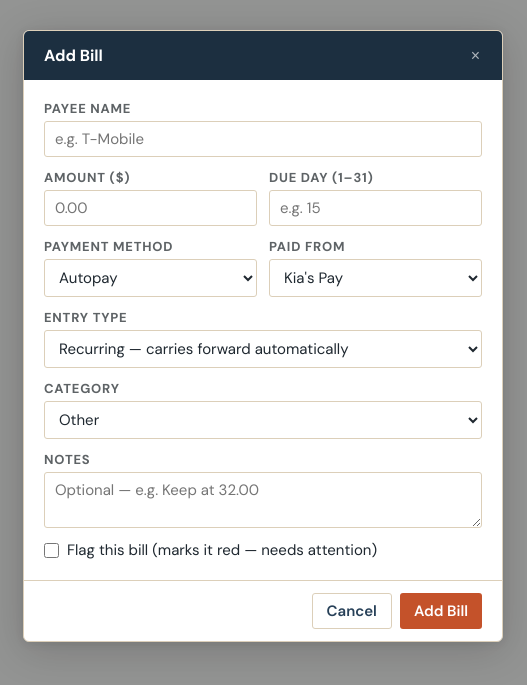
Test: BillForm › validation › shows error when due day is empty on submit
This screenshot has width=527, height=685.
Type "T-Mobile" into the field labelled "Payee Name" at (263, 139), box [44,121,482,157]
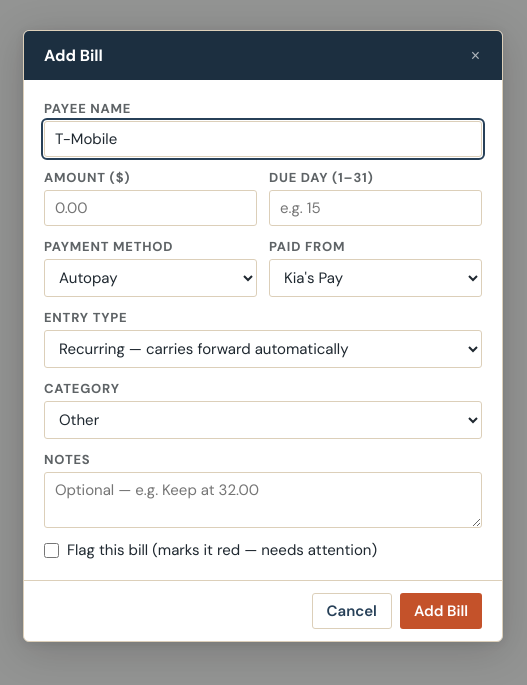
Type "50.00" into the field labelled "Amount ($)" at (150, 208), box [44,190,257,226]
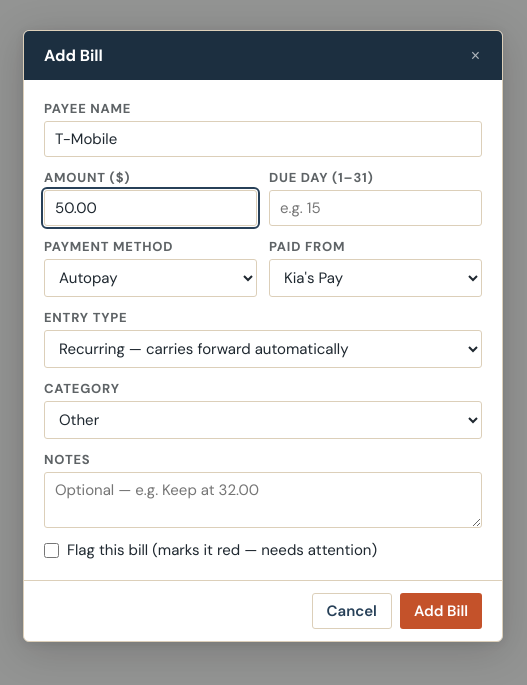
Click the button "Add Bill" at (441, 611), box [400,593,482,629]
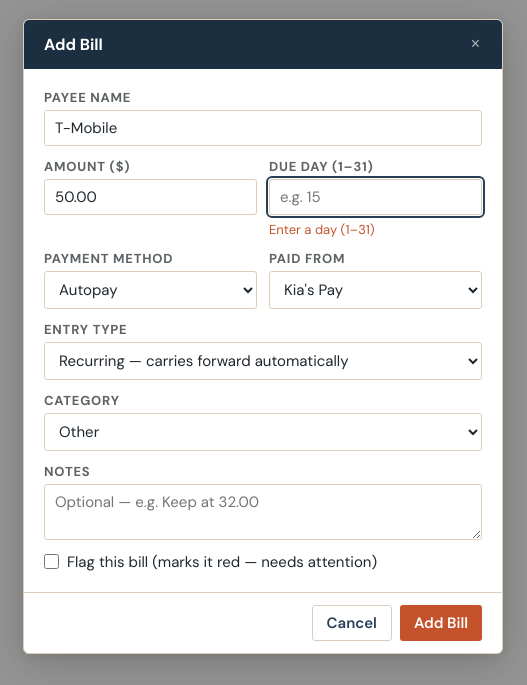
Expected: the text "Enter a day (1–31)" is shown, [269,220,375,238]
